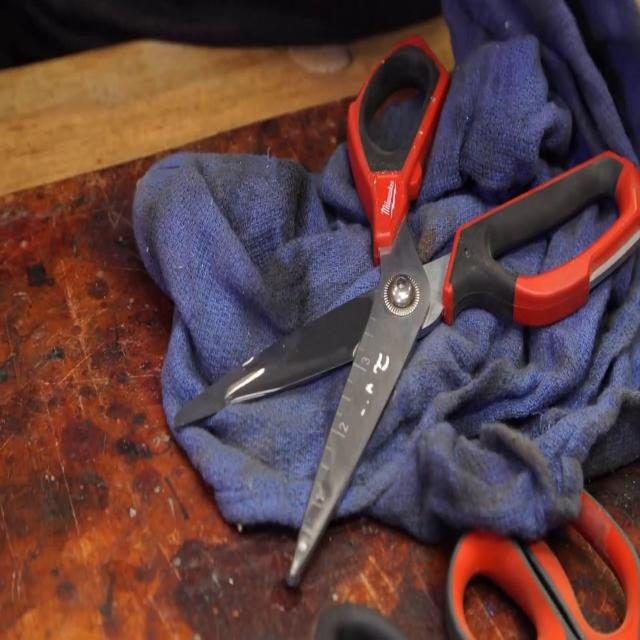scissor: (174, 39, 640, 578)
